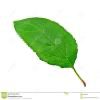Apple leaf: (11, 16, 82, 70)
